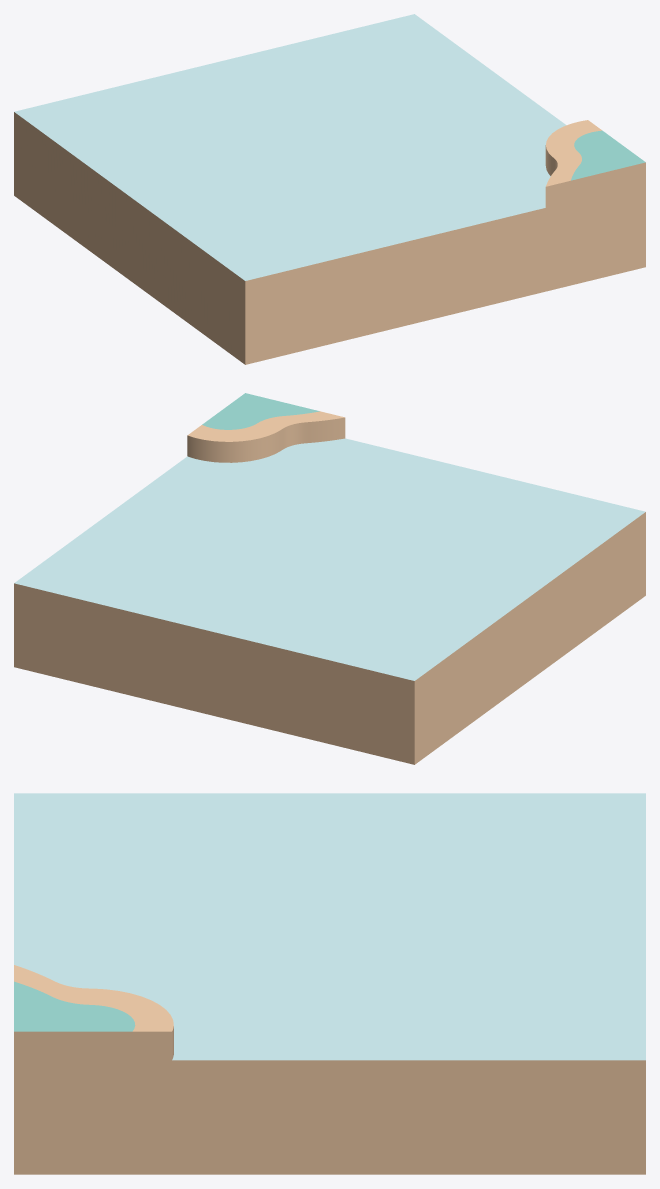
Rendered from ground_dirtRiverCornerInner.glb.
3 views of the same model, one above another, from view 1: azimuth 30°, elevation 25°; view 2: azimuth 150°, elevation 25°; view 3: azimuth 270°, elevation 25° (orthographic). The views are drawn at different scales.
Visible parts, largest first — view 1: ground_dirtRiverCornerInner; view 2: ground_dirtRiverCornerInner; view 3: ground_dirtRiverCornerInner.
Part boxes in pixels (x1,y1,x2,y2): ground_dirtRiverCornerInner: (14, 14, 645, 364); ground_dirtRiverCornerInner: (14, 393, 645, 764); ground_dirtRiverCornerInner: (14, 793, 645, 1174).
Bounding box in the file's own units: 1 × 0.25 × 1.
